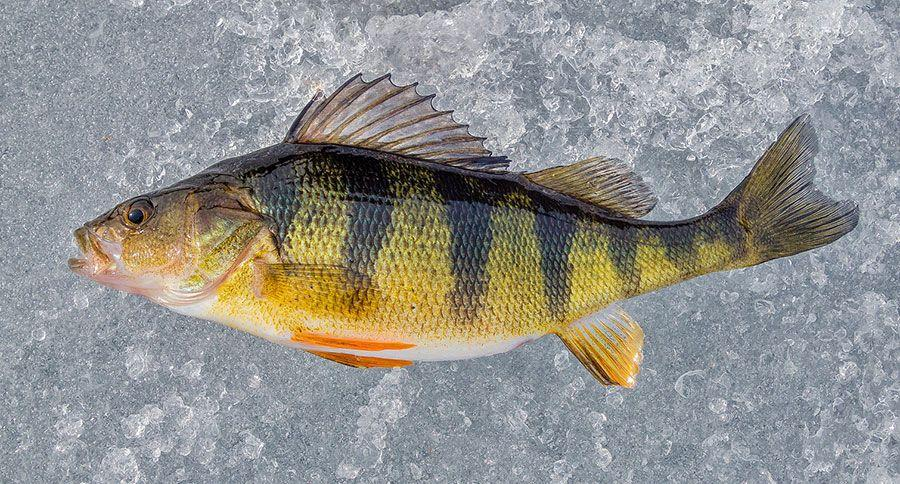Perch: (68, 69, 860, 389)
